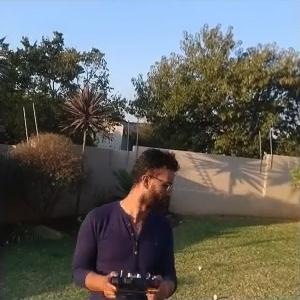follow: (68, 144, 180, 299)
